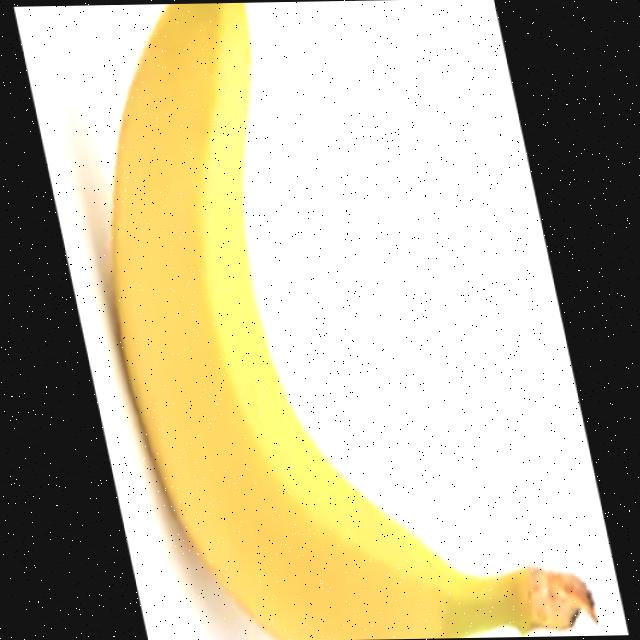banana: (104, 0, 597, 640)
